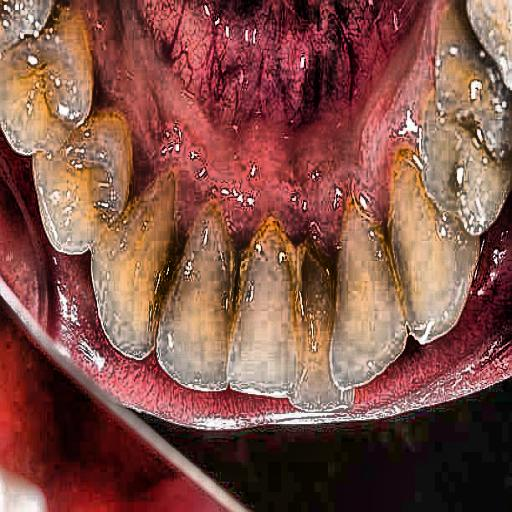Calculus: (30, 4, 469, 328)
